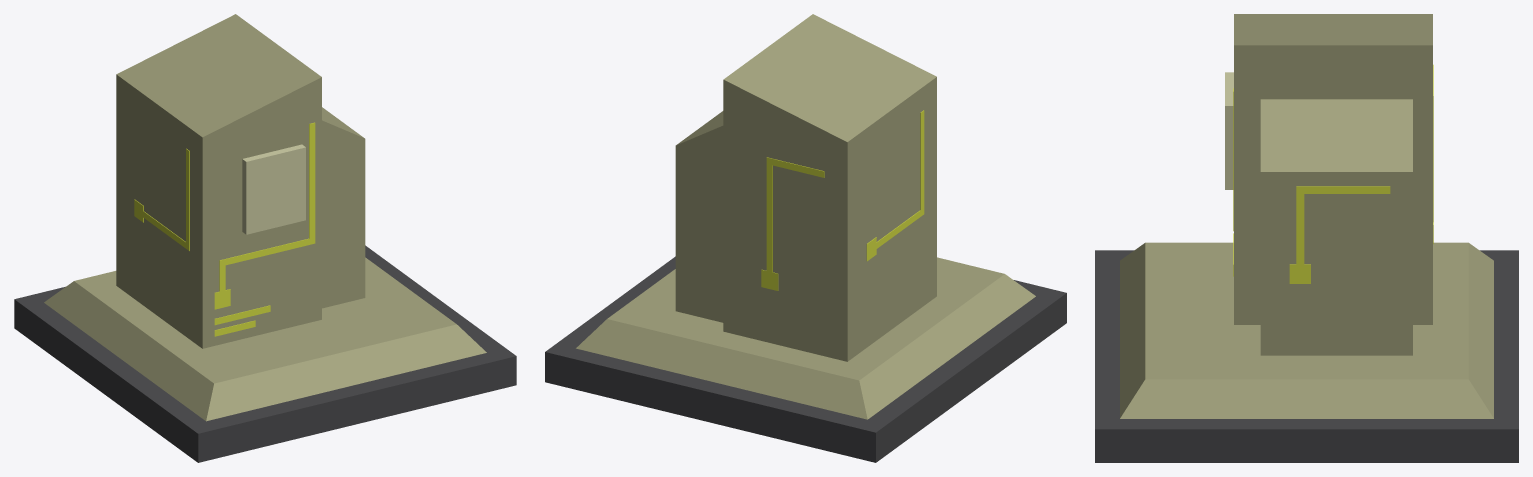
Rendered from archotech_tower.obj.
The picture shows the model from 3 angles, left to right: view 1: azimuth 30°, elevation 25°; view 2: azimuth 150°, elevation 25°; view 3: azimuth 270°, elevation 25°; orthographic projection. The views are drawn at different scales.
Parts seen in each view (by area): view 1: archotech_tower_2, archotech_tower_1, archotech_tower_0, archotech_tower_3, archotech_tower_4, archotech_tower_5, archotech_tower_6; view 2: archotech_tower_2, archotech_tower_1, archotech_tower_0, archotech_tower_3, archotech_tower_18; view 3: archotech_tower_1, archotech_tower_3, archotech_tower_2, archotech_tower_0, archotech_tower_4, archotech_tower_11, archotech_tower_12, archotech_tower_13.
Boxes of the visible parts, <box> form: archotech_tower_2: <box>116,14,321,348</box>; archotech_tower_1: <box>44,257,486,421</box>; archotech_tower_0: <box>14,245,516,462</box>; archotech_tower_3: <box>322,107,365,308</box>; archotech_tower_4: <box>242,144,305,234</box>; archotech_tower_5: <box>309,122,315,244</box>; archotech_tower_6: <box>219,238,314,266</box>; archotech_tower_2: <box>723,14,936,361</box>; archotech_tower_1: <box>576,257,1035,419</box>; archotech_tower_0: <box>545,256,1066,462</box>; archotech_tower_3: <box>675,111,723,322</box>; archotech_tower_18: <box>766,157,772,284</box>; archotech_tower_1: <box>1120,242,1493,418</box>; archotech_tower_3: <box>1260,99,1412,355</box>; archotech_tower_2: <box>1234,14,1432,324</box>; archotech_tower_0: <box>1095,250,1518,462</box>; archotech_tower_4: <box>1225,72,1233,189</box>; archotech_tower_11: <box>1296,186,1390,193</box>; archotech_tower_12: <box>1296,186,1304,277</box>; archotech_tower_13: <box>1289,264,1310,283</box>.
Size of the model in its own units: 3.2 by 2.85 by 3.2.
